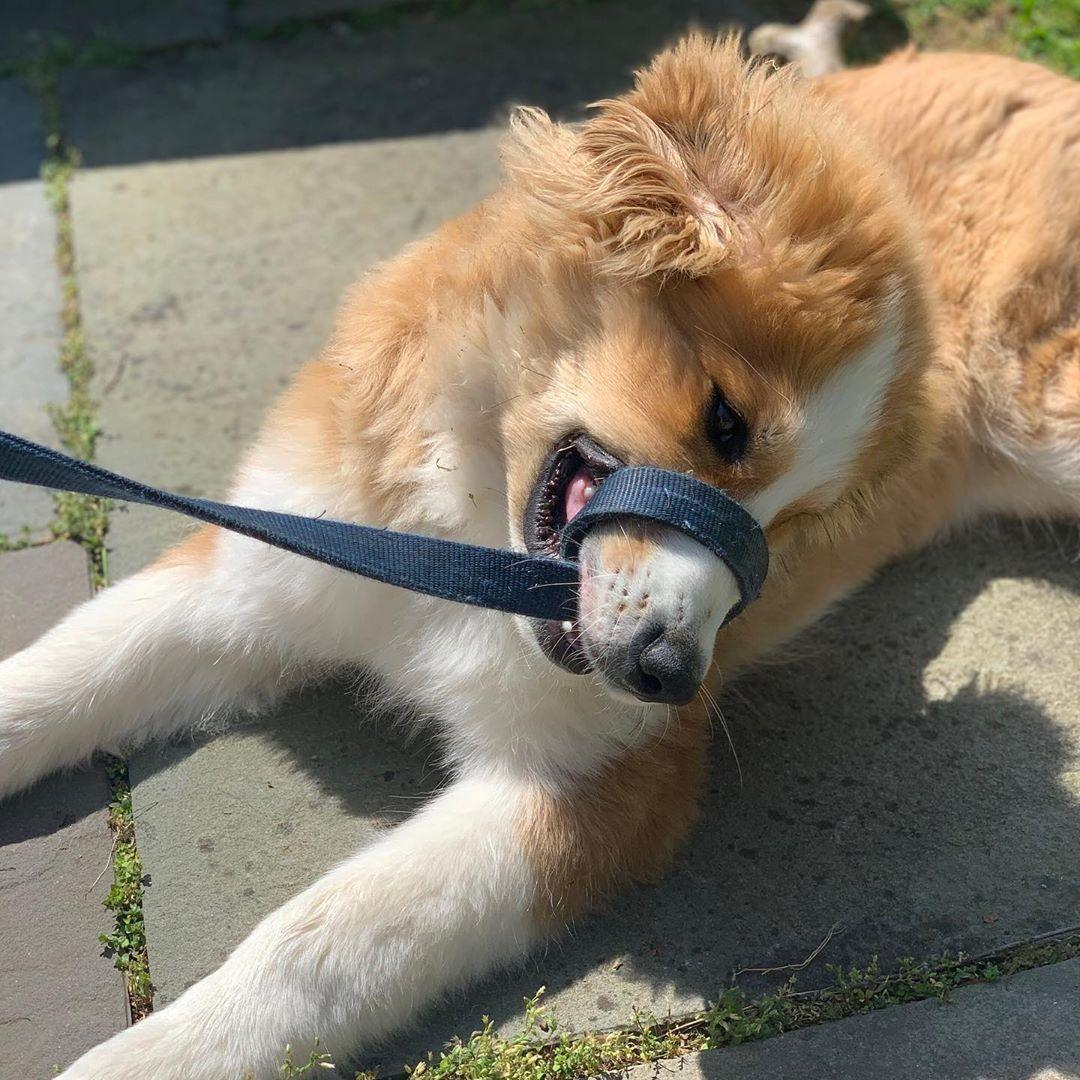puppy-dog: (2, 22, 1080, 1080)
